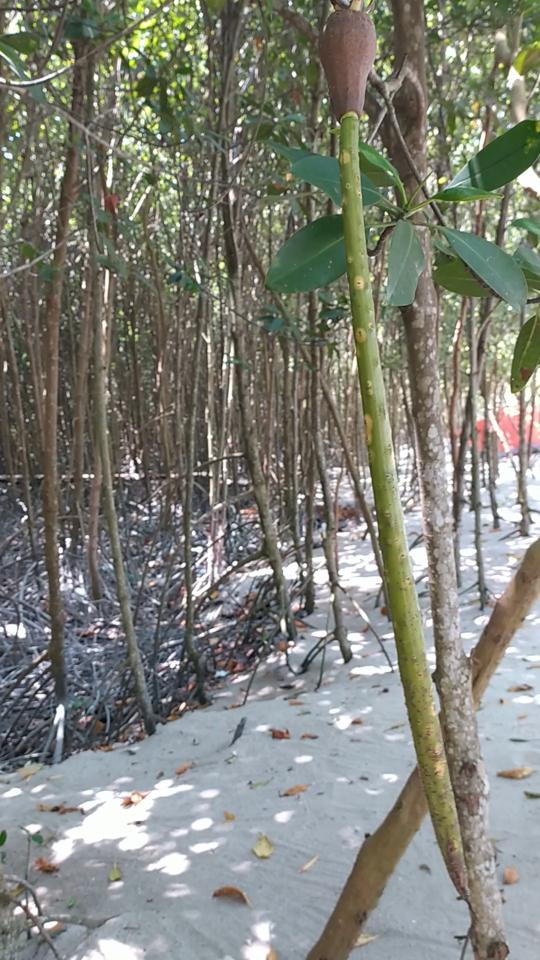setengah matang: (303, 3, 483, 910)
